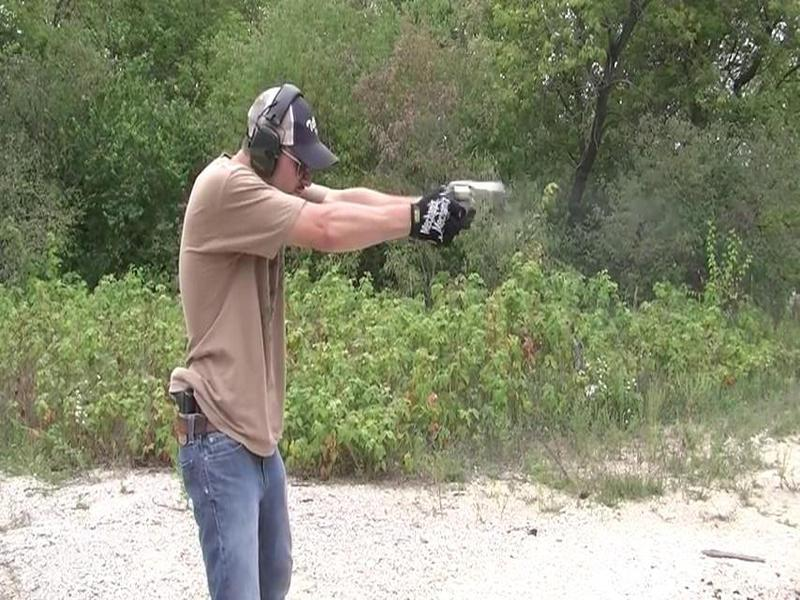Revolver: (425, 157, 517, 254)
